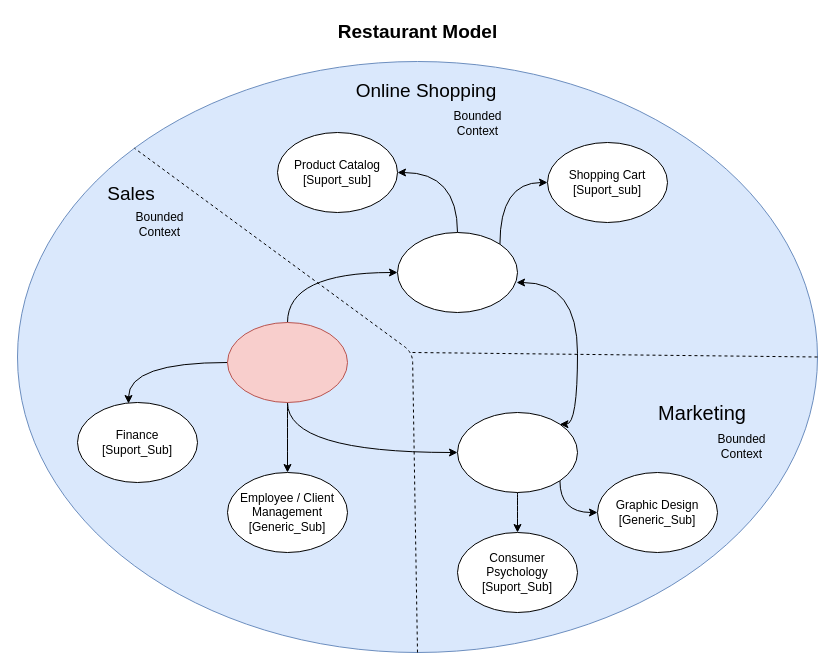
The diagram is 836 pixels wide and 671 high, and some of its shapes have lost their labels. The shapes that lost their labels are listed below. From the top down, each one's centre as x and y in pixels, then its label:
At [457,272]: "Online Order [Core_Sub]".
At [287,362]: "Order [Core_Sub]".
At [517,452]: "Advertising [Core_Sub]".
